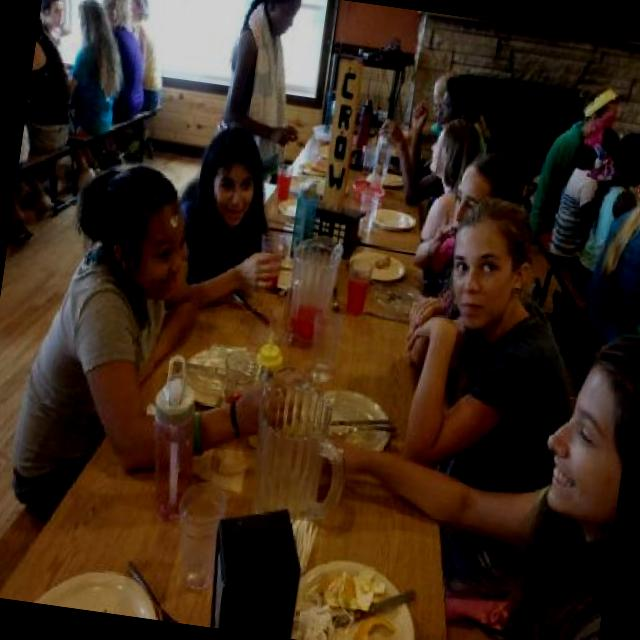Person: (0, 0, 640, 621), (0, 153, 297, 552), (307, 293, 640, 640), (387, 189, 602, 498), (160, 122, 300, 322), (545, 123, 640, 358), (208, 0, 318, 190), (368, 60, 488, 214), (412, 140, 526, 284), (52, 0, 135, 192), (546, 124, 622, 275), (84, 0, 160, 129), (415, 115, 486, 247), (114, 0, 176, 111)
